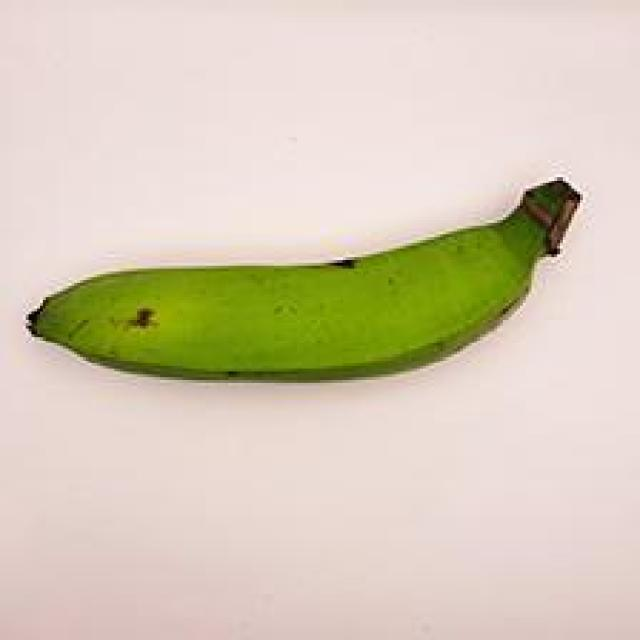Raw: (22, 156, 595, 409)
